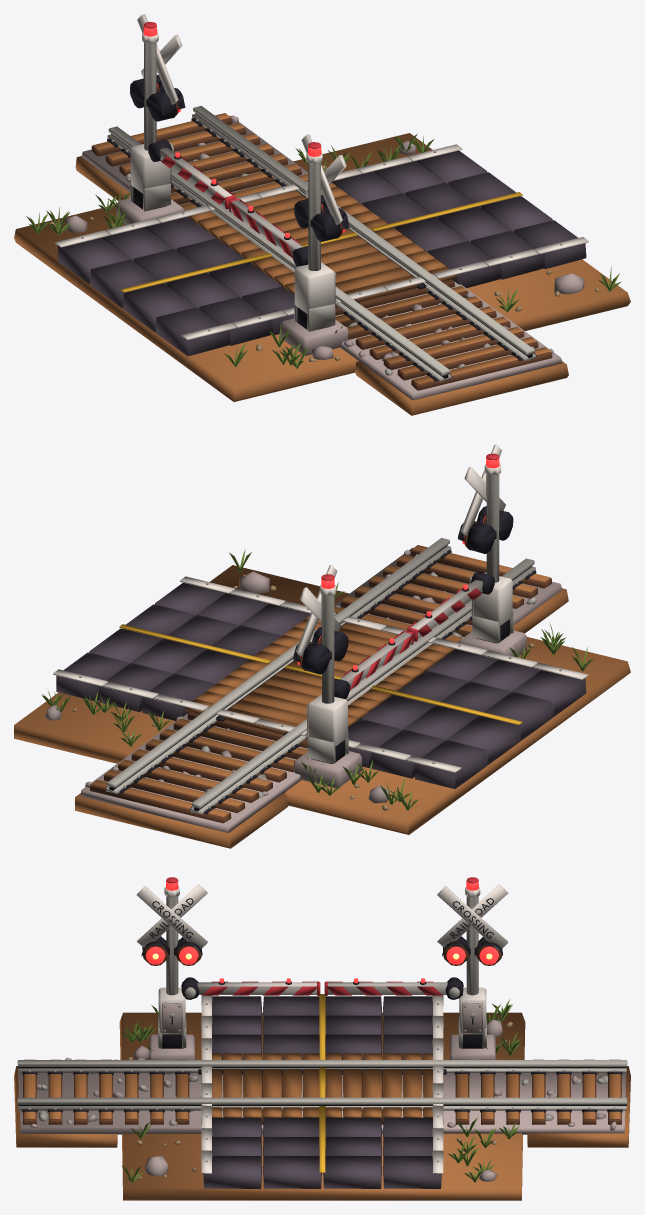
The model's file is kit.rail-crossing.lod2.glb.
The picture shows the model from 3 angles, top to bottom: view 1: azimuth 30°, elevation 25°; view 2: azimuth 150°, elevation 25°; view 3: azimuth 270°, elevation 25°; orthographic projection. The views are drawn at different scales.
Size of the model in its own units: 7.43 by 3.74 by 10.8.
